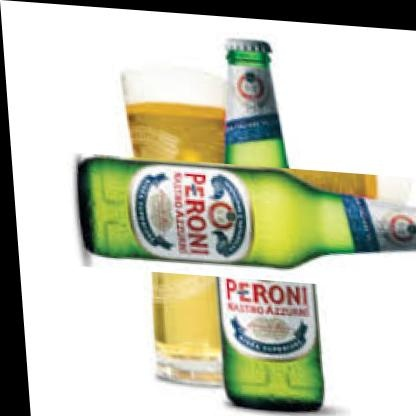trash: (78, 157, 378, 266), (225, 39, 353, 266), (219, 278, 323, 409), (220, 279, 322, 409), (122, 67, 224, 162), (225, 39, 287, 167), (153, 273, 222, 384)
